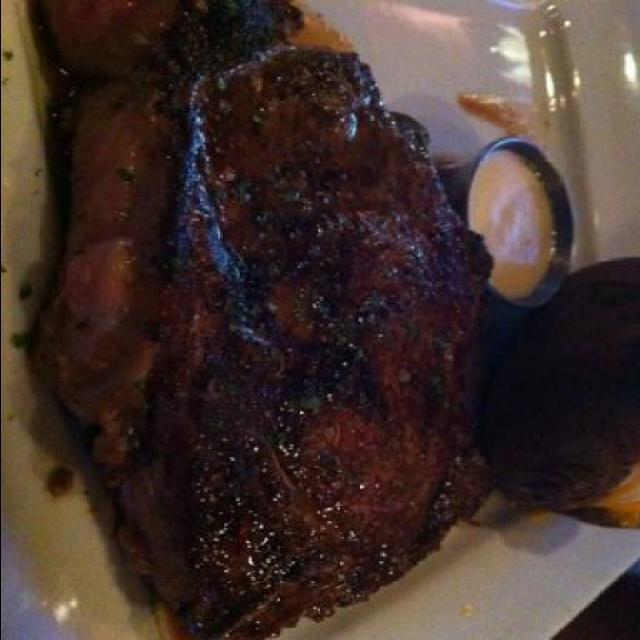Steak: (135, 52, 491, 624)
